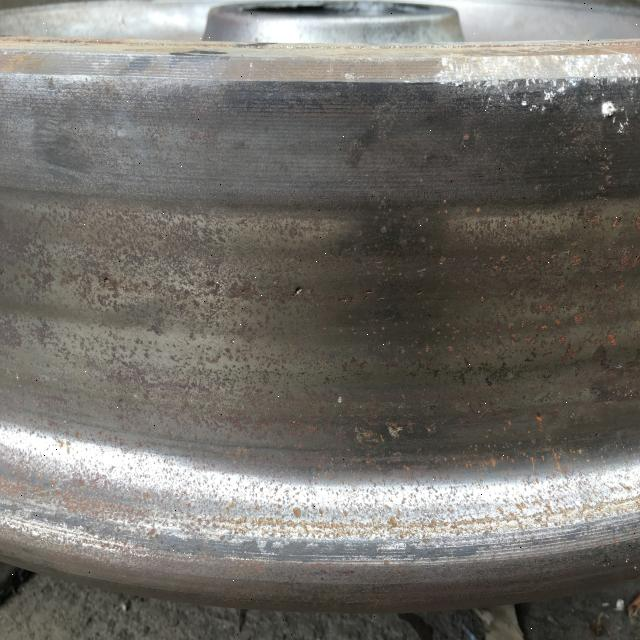boli: (289, 280, 309, 302)
